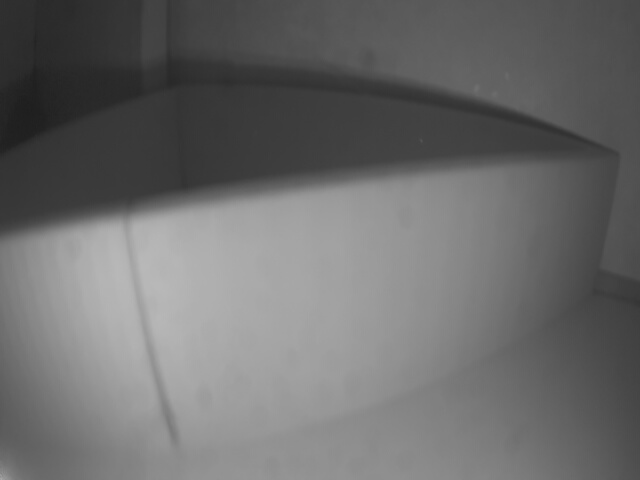Red: (1, 154, 622, 478)
